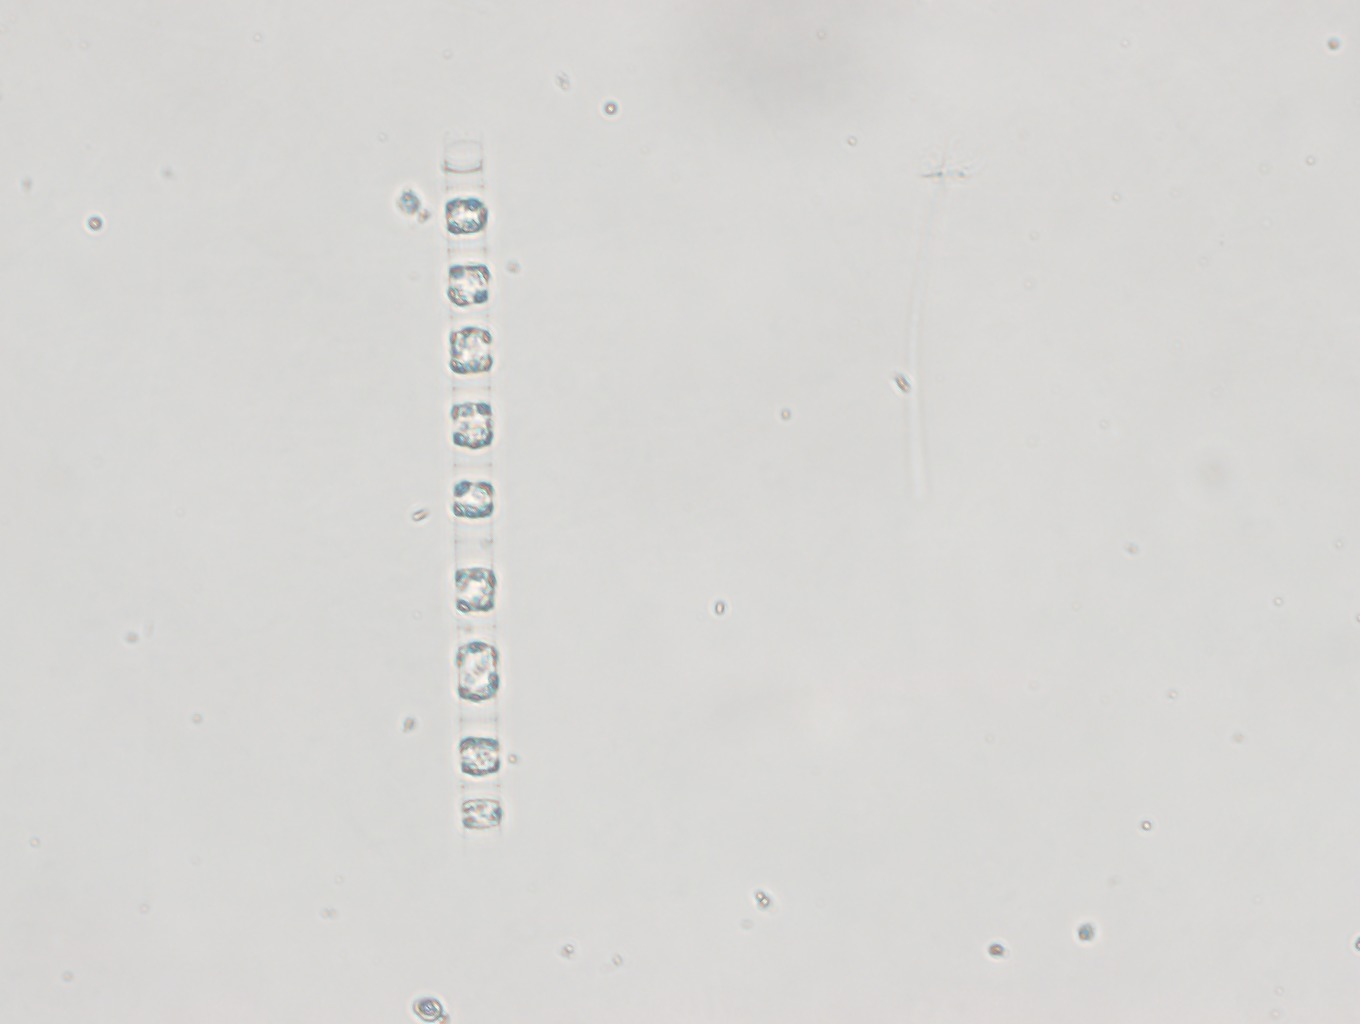skeletonema: (439, 132, 509, 849)
